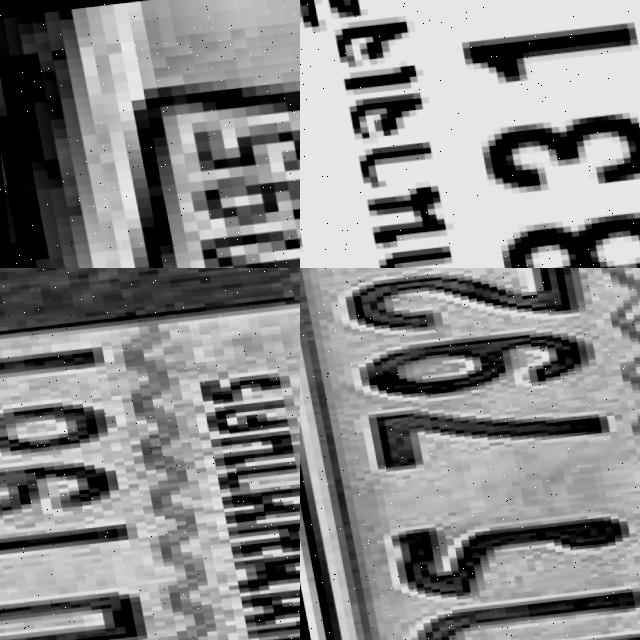license-plate: (300, 268, 640, 640), (0, 268, 300, 640), (300, 0, 640, 268), (16, 29, 300, 268)
